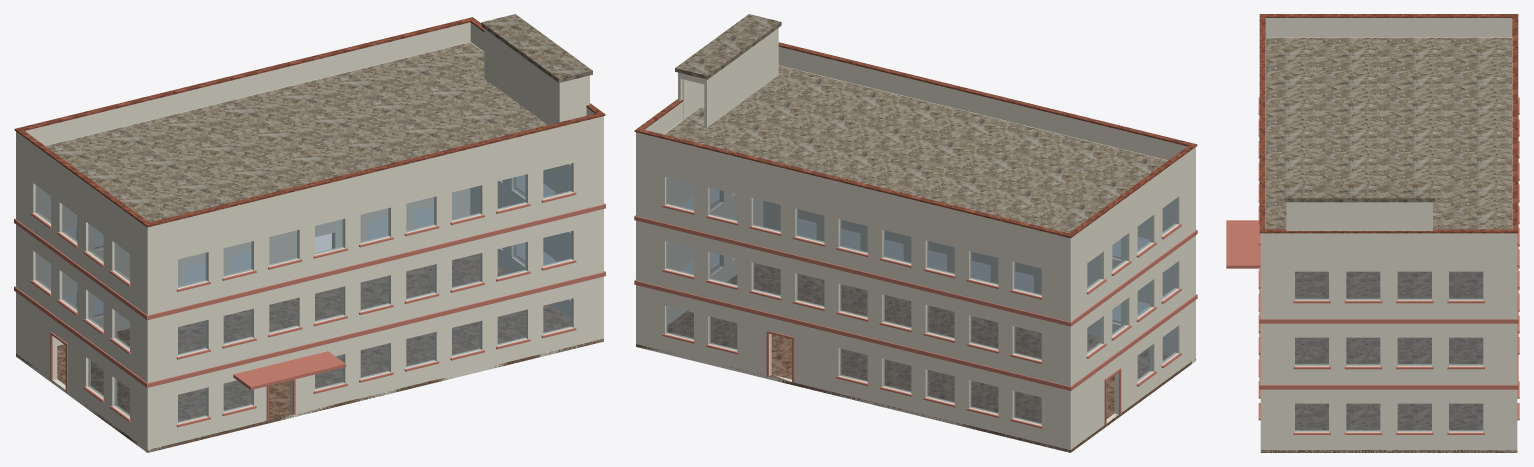
Rendered from ew-control-house.works-v1.lod1.glb.
The picture shows the model from 3 angles, left to right: view 1: azimuth 30°, elevation 25°; view 2: azimuth 150°, elevation 25°; view 3: azimuth 270°, elevation 25°; orthographic projection. The views are drawn at different scales.
Parts seen in each view (by area): view 1: ew-control-house; view 2: ew-control-house; view 3: ew-control-house.
Part boxes in pixels (box(x1,y1,x2,y2)): ew-control-house: box(14, 14, 605, 452); ew-control-house: box(634, 14, 1197, 452); ew-control-house: box(1226, 14, 1519, 452).
Size of the model in its own units: 24.2 by 13.15 by 13.7.
3 materials, 1 textured.
